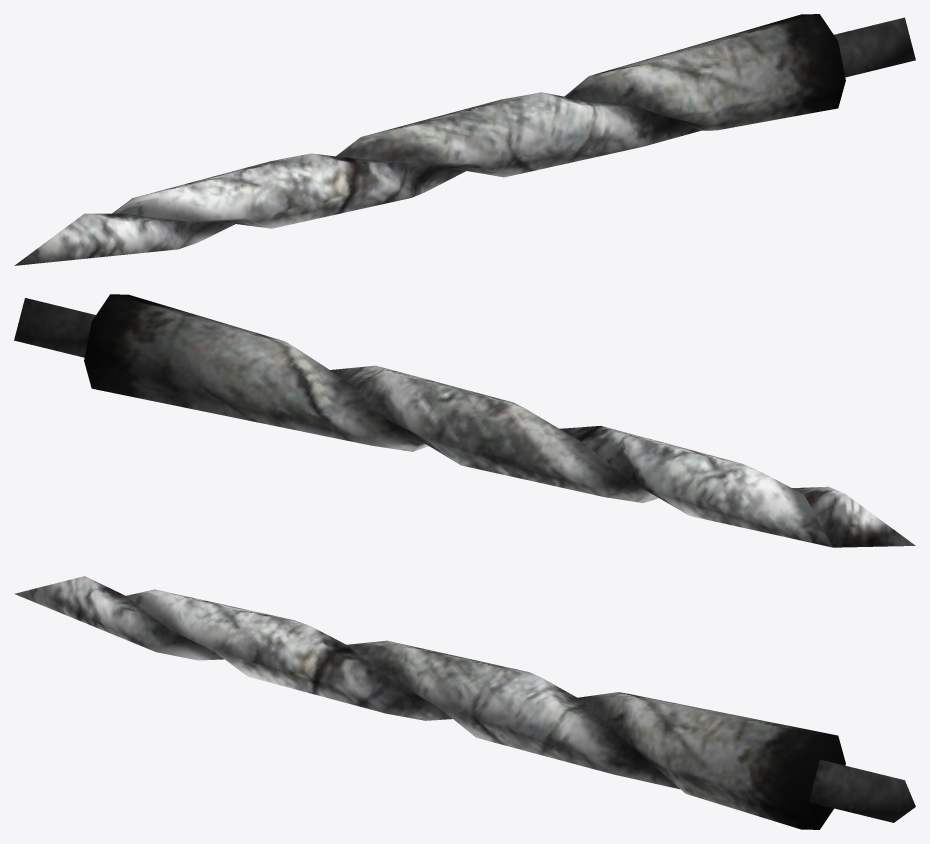
The model's file is hand_drill_part03.dae.
3 renders of one model, top to bottom at view 1: azimuth 30°, elevation 25°; view 2: azimuth 150°, elevation 25°; view 3: azimuth 330°, elevation 25°, orthographic.
Parts seen in each view (by area): view 1: hand_drill_part03; view 2: hand_drill_part03; view 3: hand_drill_part03.
Part boxes in pixels (box(x1,y1,x2,y2)): hand_drill_part03: box(14, 14, 915, 265); hand_drill_part03: box(14, 294, 915, 547); hand_drill_part03: box(14, 576, 915, 829).
Size of the model in its own units: 0.2484 by 0.0252 by 0.0252.
